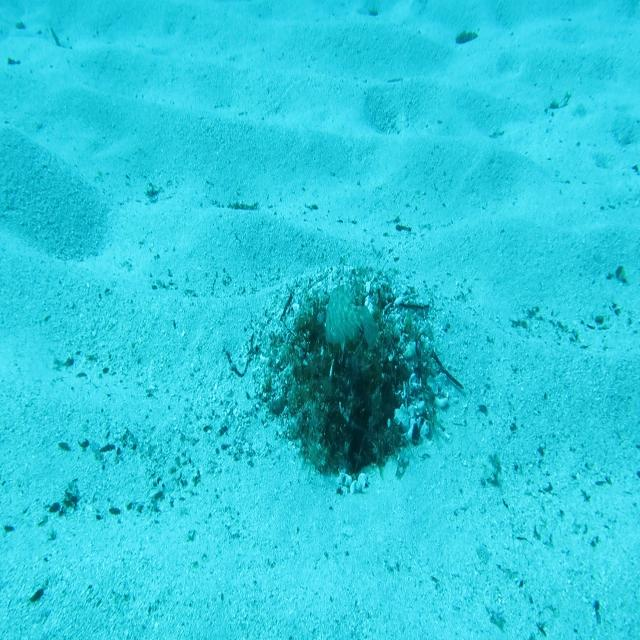NIP_CORE: (321, 278, 379, 352)
core_nest: (319, 319, 362, 353)
nest: (237, 252, 457, 499)
vegetation: (452, 30, 479, 48)
